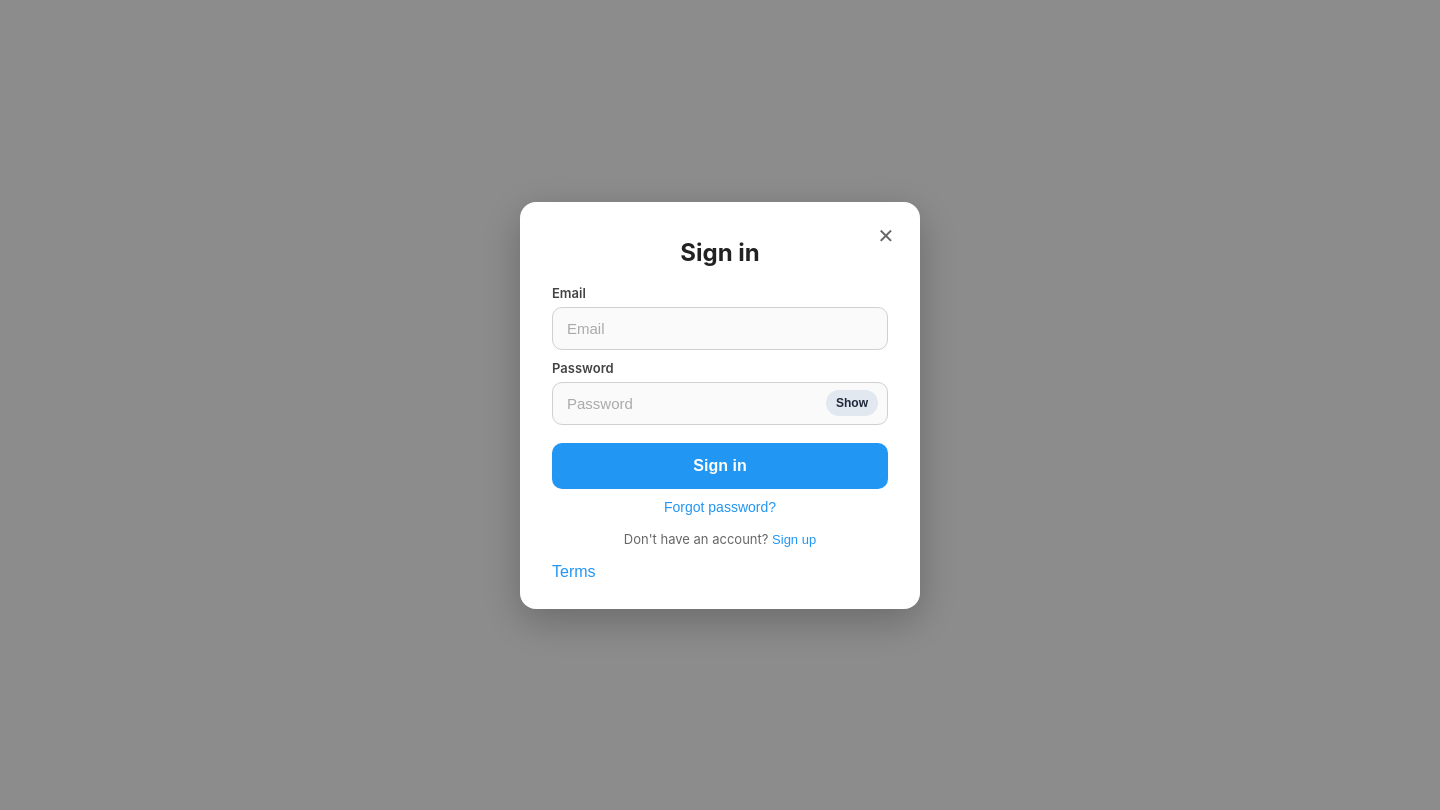
SignIn Component › displays field-level validation errors
The image size is (1440, 810).
Type "bad" into the field labelled "Email" at x=720, y=328, box x1=552 y1=306 x2=888 y2=350
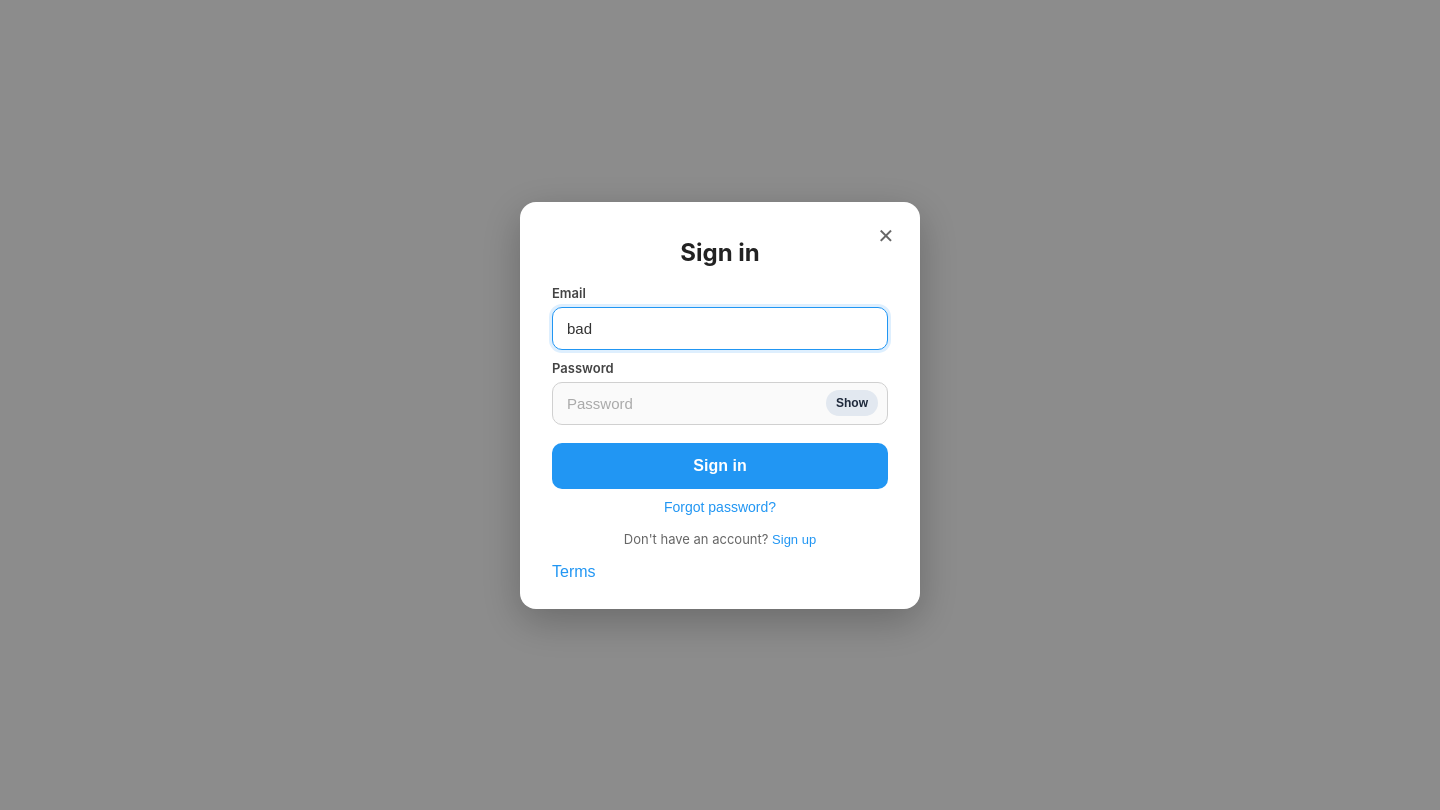
Type "test" into the password field labelled "Password" at x=720, y=403, box x1=552 y1=382 x2=888 y2=424
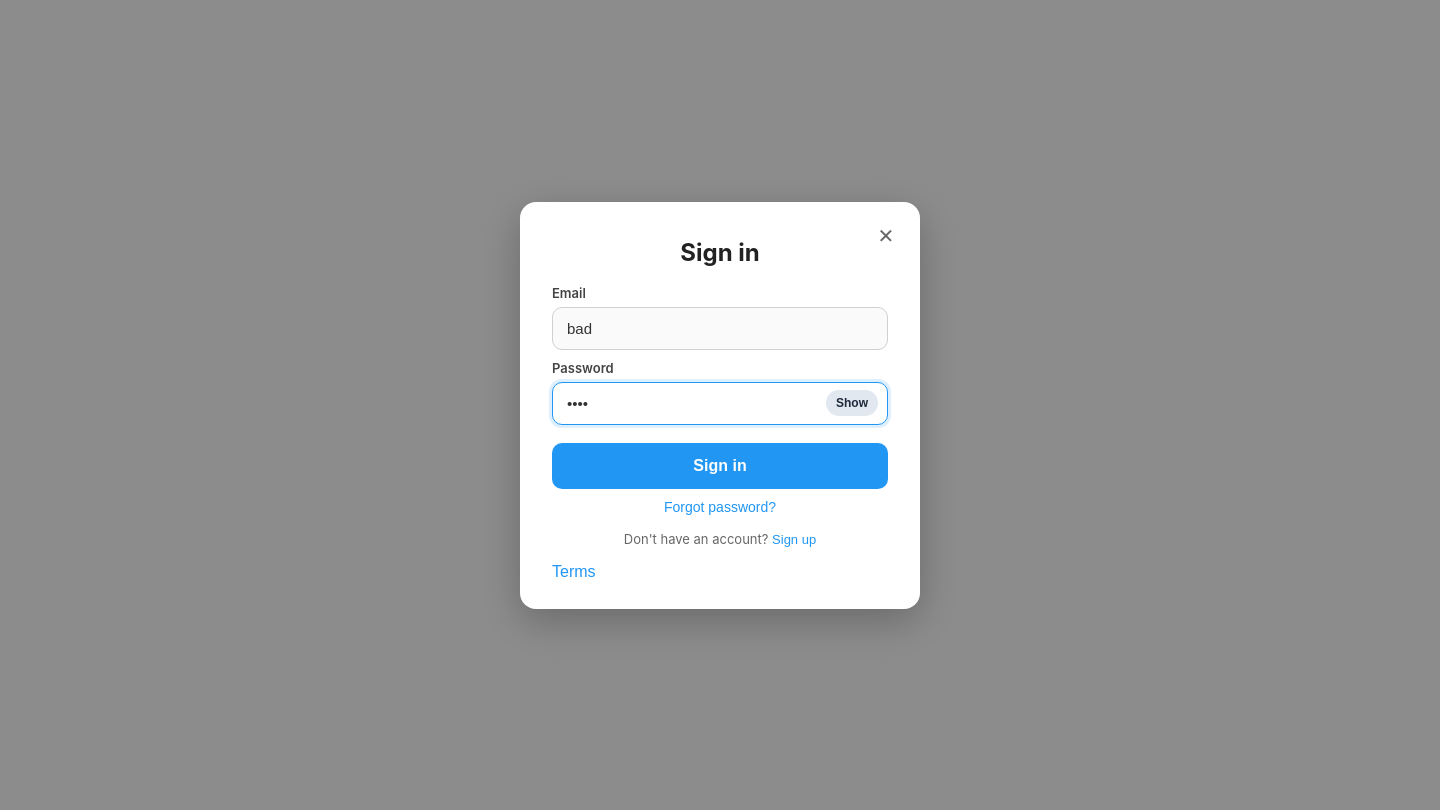
Click the button "Sign in" at x=720, y=466, box x1=552 y1=442 x2=888 y2=488
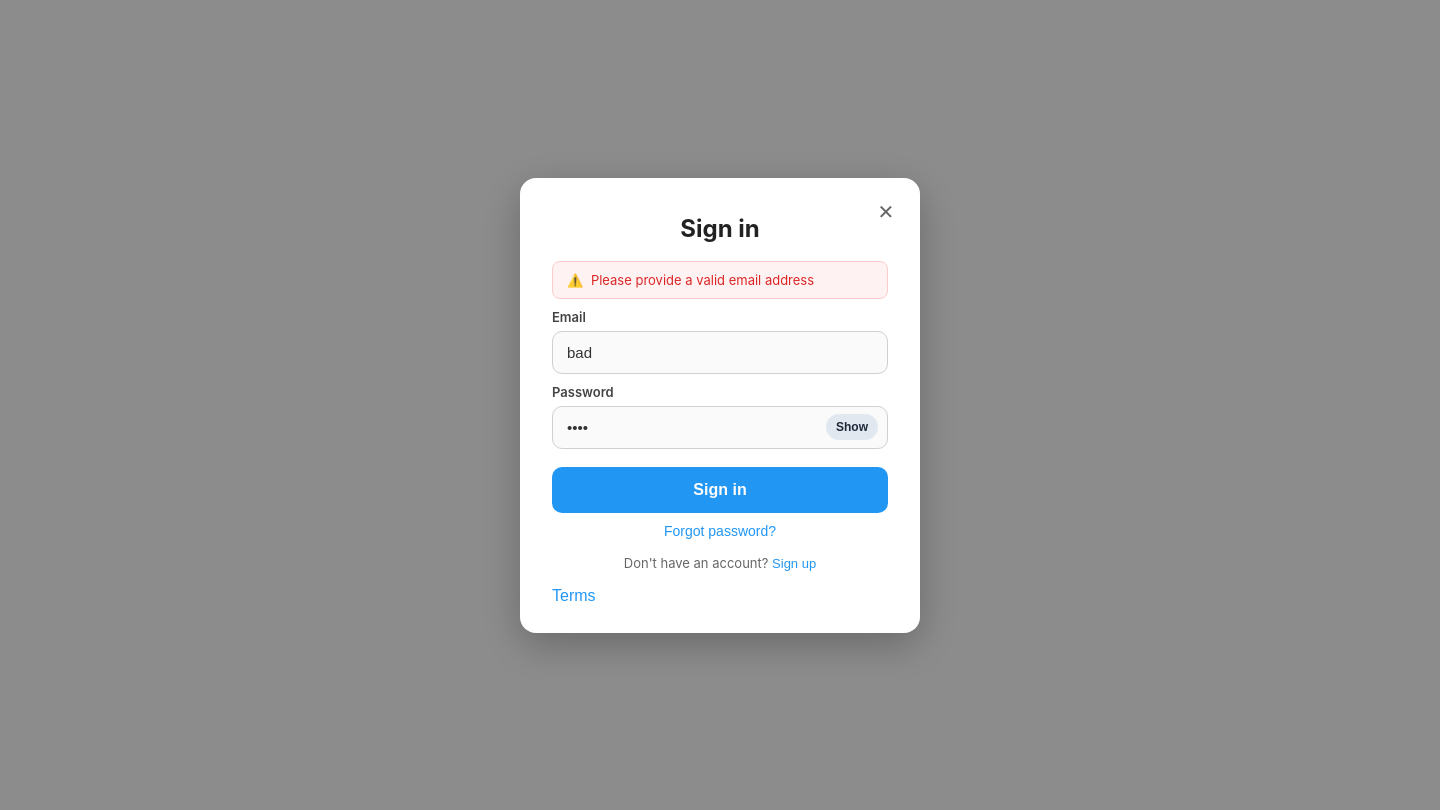
expect the text "⚠️ Please provide a valid email address" is shown: met, box x1=567 y1=272 x2=814 y2=288
